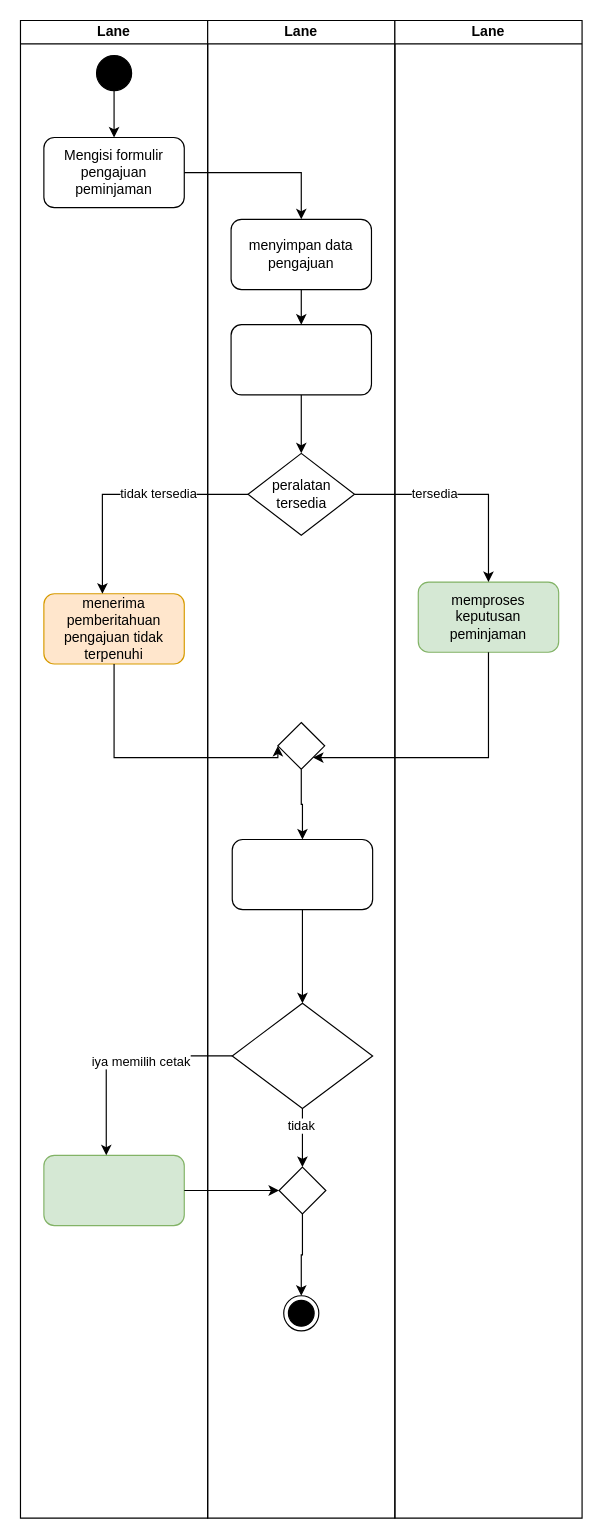
This 603x1539 diagram has some shape labels left out. Here are the shapes that lost their labels. From the top down, the box of each, then its label:
(230, 324, 371, 395): Periksa Ketersediaan (dari LAB-UC04)
(231, 838, 373, 910): Mencatat hasil akhir pengajuan
(231, 1002, 373, 1109): Mahasiswa memilih cetak bukti
(43, 1154, 184, 1226): cetak bukti pengajuan (dari LAB-UC05)
